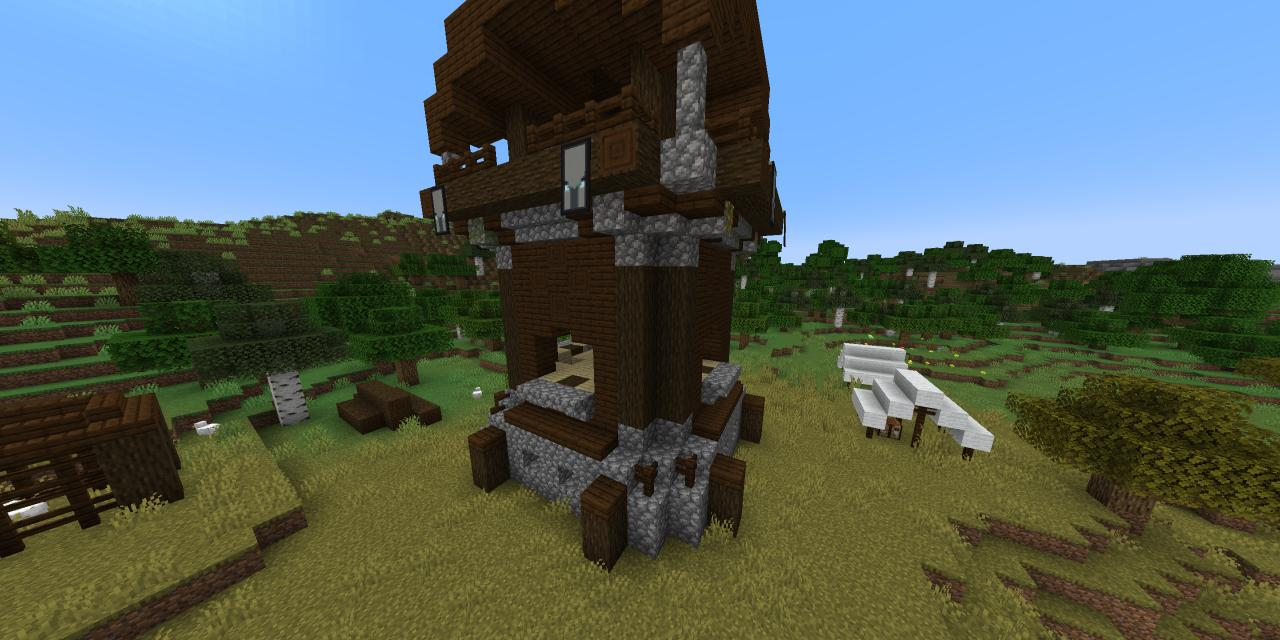pillager outpost: (403, 0, 804, 579)
